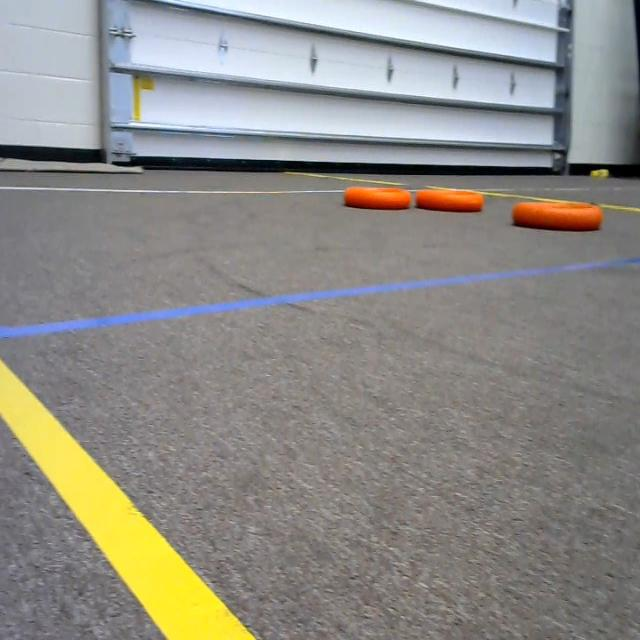note: (511, 191, 615, 238), (335, 170, 418, 226), (411, 181, 491, 224)
